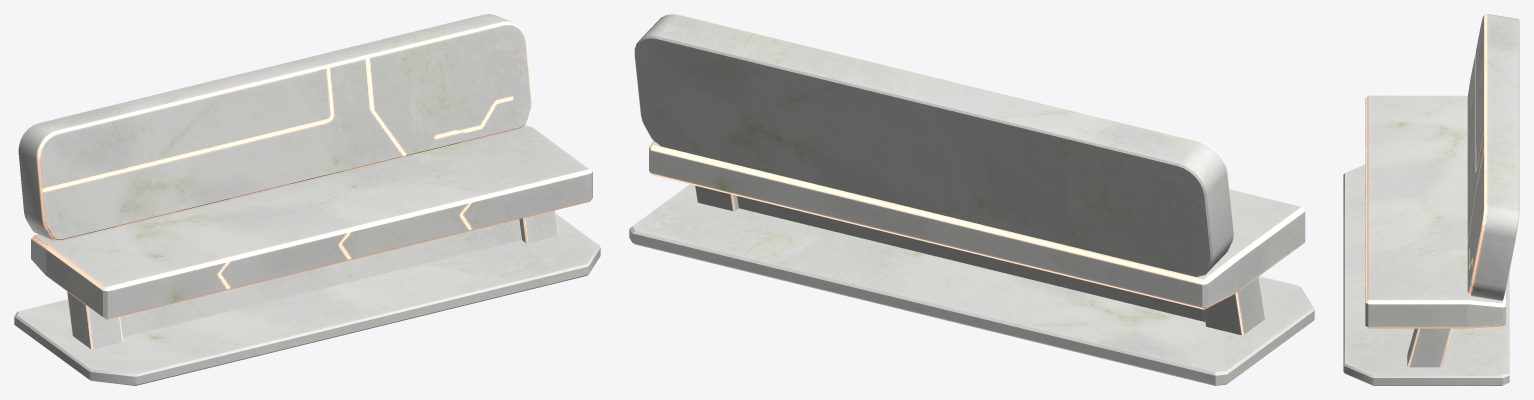
The model's file is Bench.fbx.
3 views of the same model, side by side, from view 1: azimuth 30°, elevation 25°; view 2: azimuth 150°, elevation 25°; view 3: azimuth 270°, elevation 25° (orthographic). The views are drawn at different scales.
Visible parts, largest first — view 1: Bench; view 2: Bench; view 3: Bench.
Boxes of the visible parts, x1=… form: Bench: x1=14, y1=14, x2=600, y2=385; Bench: x1=629, y1=14, x2=1314, y2=385; Bench: x1=1343, y1=14, x2=1519, y2=385.
Bounding box in the file's own units: 290 × 105 × 99.75.
1 material, 1 textured.
